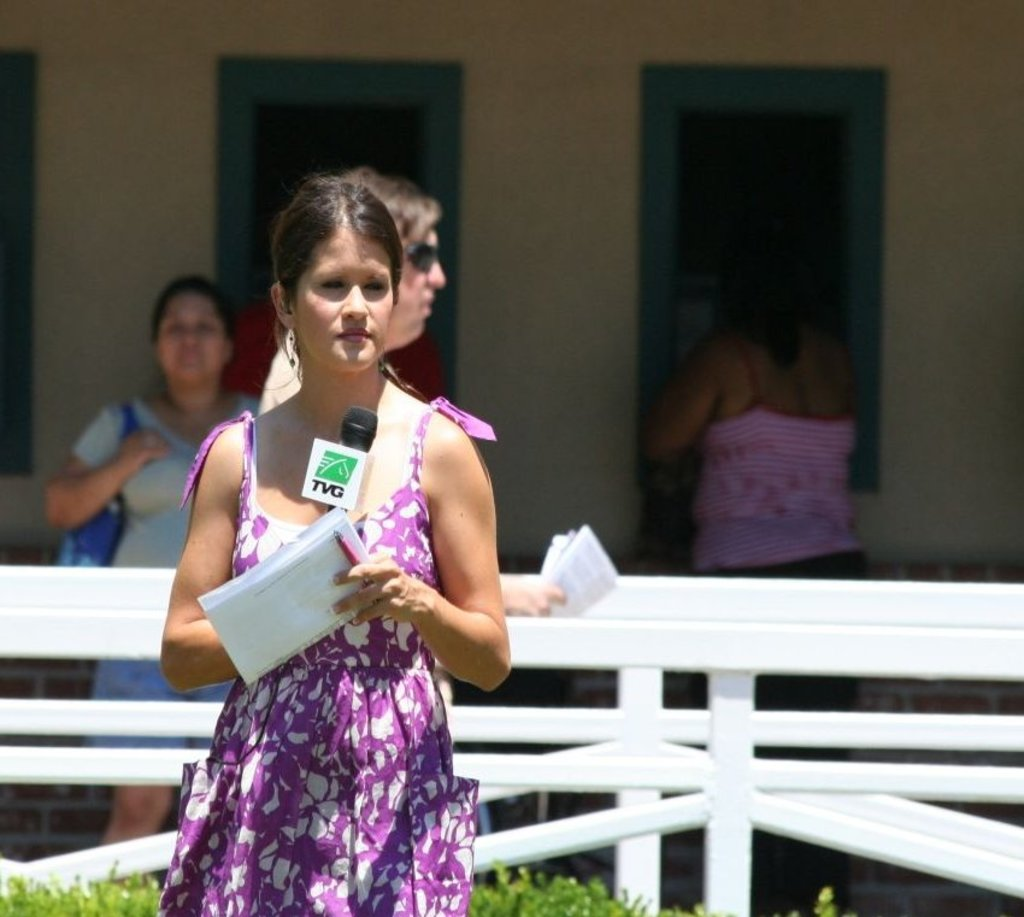Human_hand: (331, 548, 418, 624), (116, 429, 173, 474), (499, 583, 567, 618)
